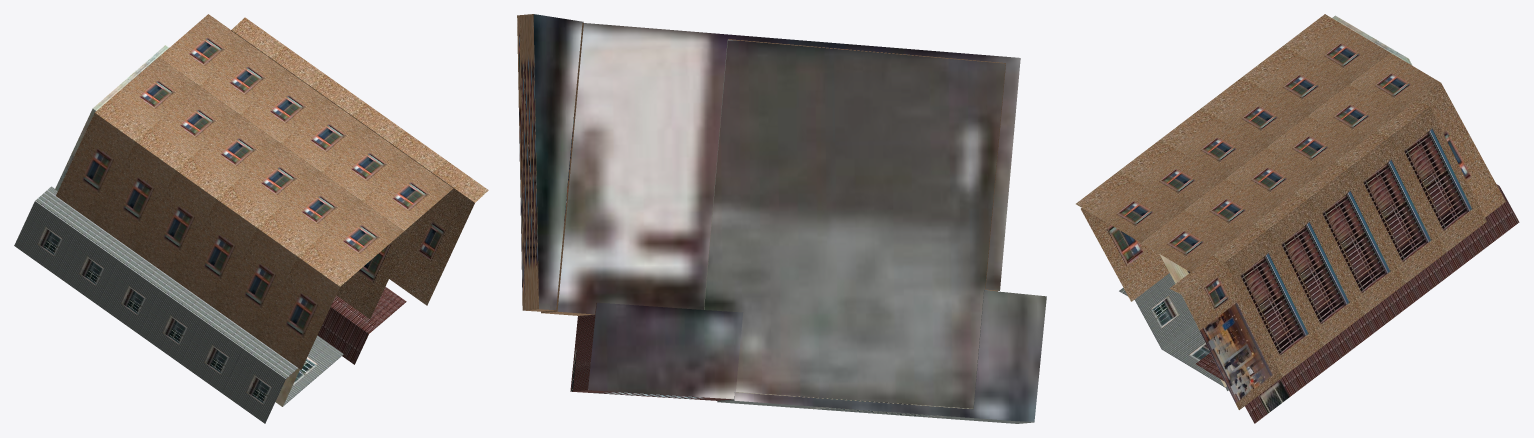
The picture shows the model from 3 angles, left to right: view 1: azimuth 30°, elevation 25°; view 2: azimuth 150°, elevation 25°; view 3: azimuth 270°, elevation 25°; orthographic projection. The views are drawn at different scales.
Bounding box in the file's own units: 26.38 × 19.59 × 26.03.
Materials: 20 (20 with a texture image).
